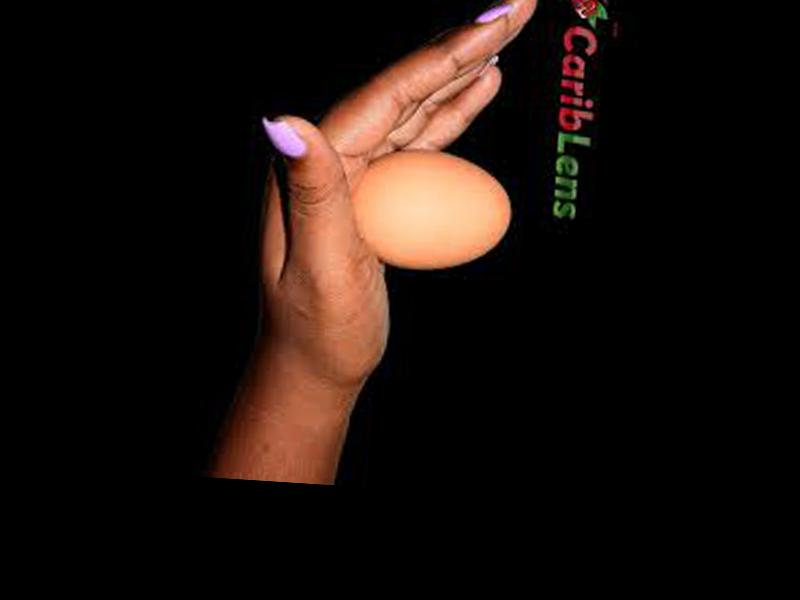Eggs: (350, 144, 515, 275)
